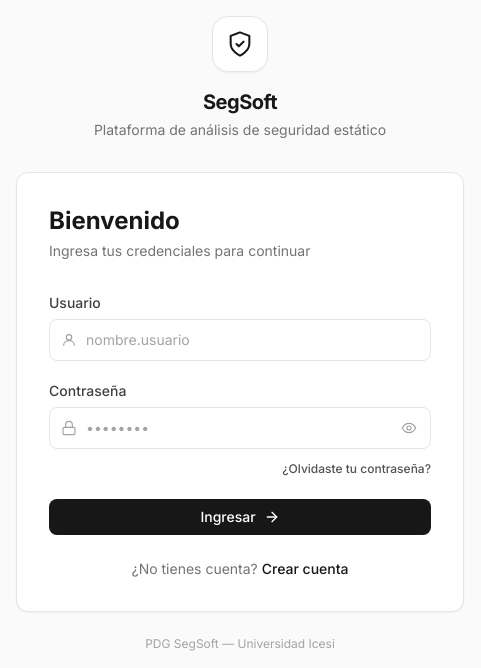
Test: LoginForm › shows and hides the password with the eye button
Type "secret" into the password field labelled "Contraseña" at (240, 428), box left=49, top=407, right=431, bottom=449
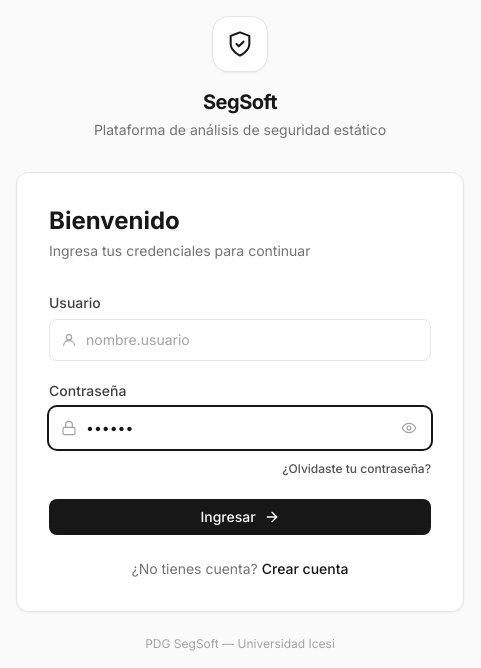
Click the button named "mostrar contraseña" at (409, 428), box left=395, top=414, right=423, bottom=442
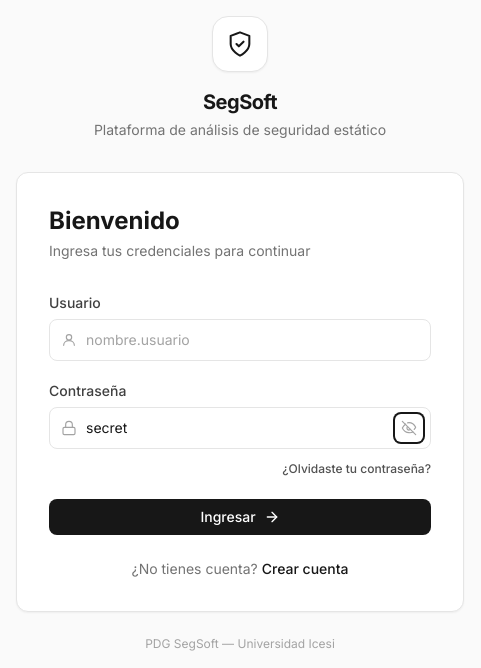
Result: the field labelled "Contraseña" shows its text at left=49, top=407, right=431, bottom=449
Click the button named "ocultar contraseña" at (409, 428), box left=395, top=414, right=423, bottom=442
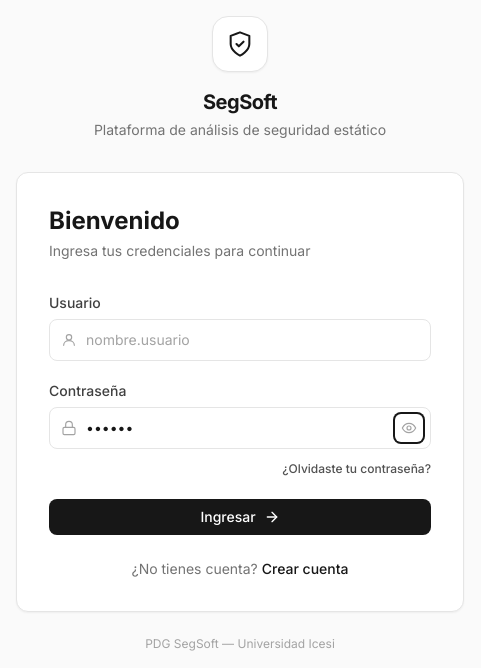
Result: the password field labelled "Contraseña" hides its text at left=49, top=407, right=431, bottom=449
